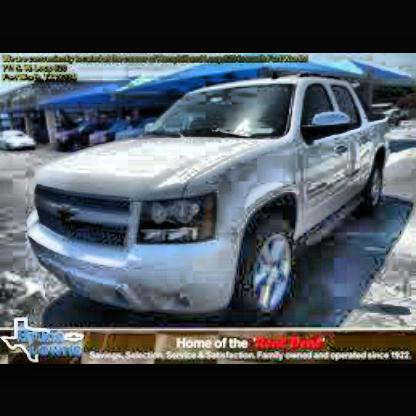Chevrolet Avalanche Crew Cab 2012: (27, 75, 398, 325)
